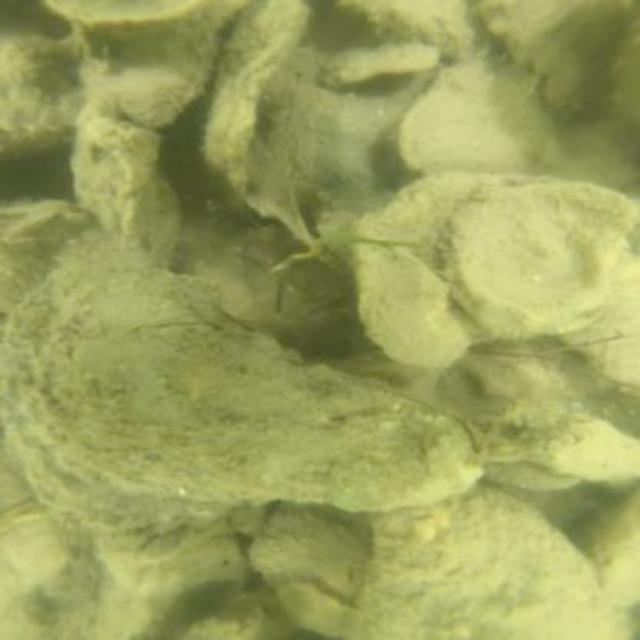Oyster-Closed: (0, 235, 480, 513), (353, 487, 636, 640), (437, 179, 640, 340), (67, 97, 179, 262), (399, 64, 563, 173), (476, 0, 626, 111), (355, 247, 470, 367), (89, 30, 224, 127), (252, 508, 369, 602), (348, 0, 494, 58)
